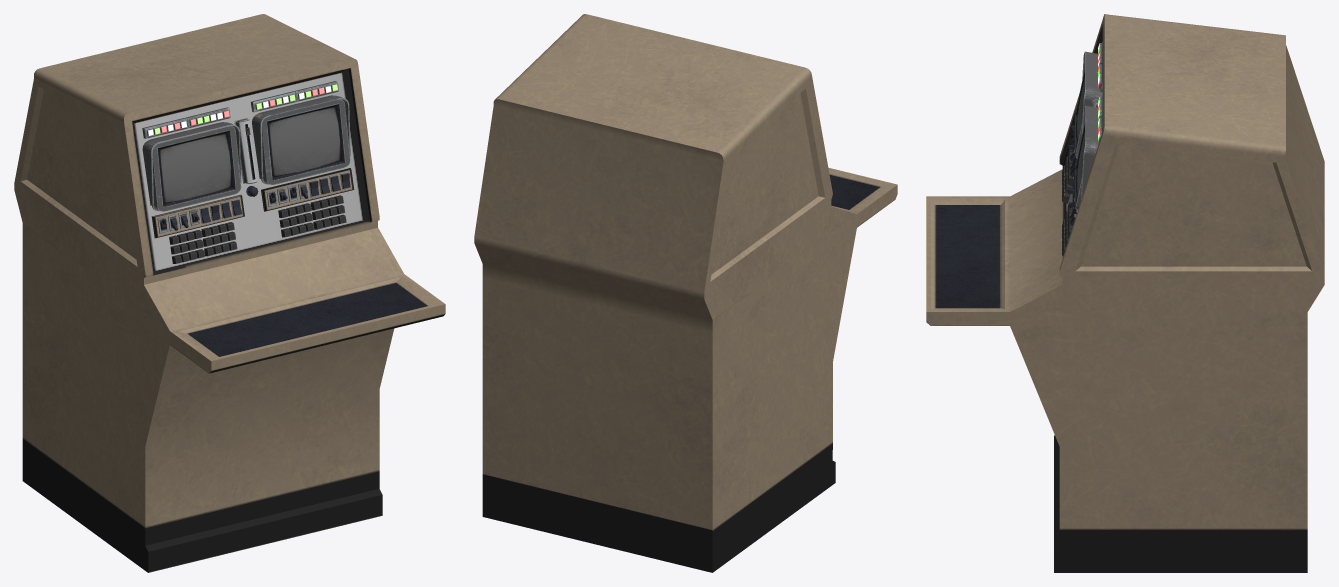
File: computer80s.glb
The picture shows the model from 3 angles, left to right: view 1: azimuth 30°, elevation 25°; view 2: azimuth 150°, elevation 25°; view 3: azimuth 270°, elevation 25°; orthographic projection. The views are drawn at different scales.
Visible parts, largest first — view 1: Box143_Unwrap Texture Checker Material_0; view 2: Box143_Unwrap Texture Checker Material_0; view 3: Box143_Unwrap Texture Checker Material_0.
Part boxes in pixels (left/top/right/bottom): Box143_Unwrap Texture Checker Material_0: left=14, top=14, right=445, bottom=572; Box143_Unwrap Texture Checker Material_0: left=474, top=14, right=897, bottom=572; Box143_Unwrap Texture Checker Material_0: left=926, top=14, right=1324, bottom=572.
Size of the model in its own units: 2.29 by 4.11 by 3.33.
1 material, 1 textured.
